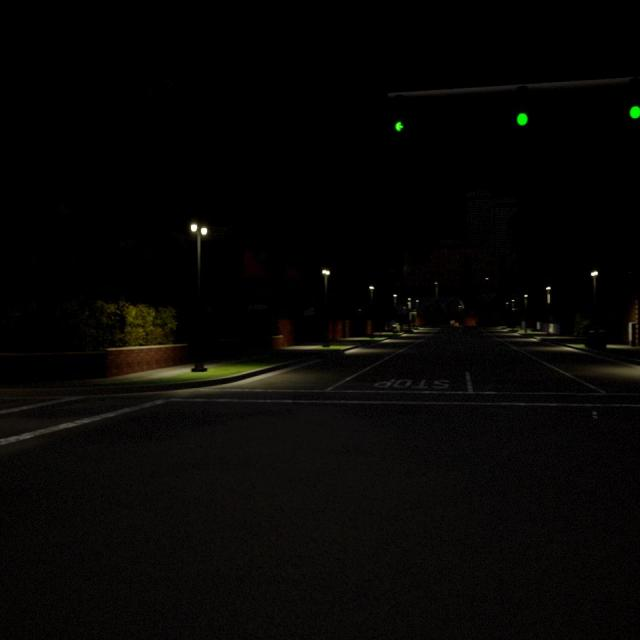traffic_light: (516, 86, 528, 125), (630, 78, 640, 119), (394, 96, 403, 132)
